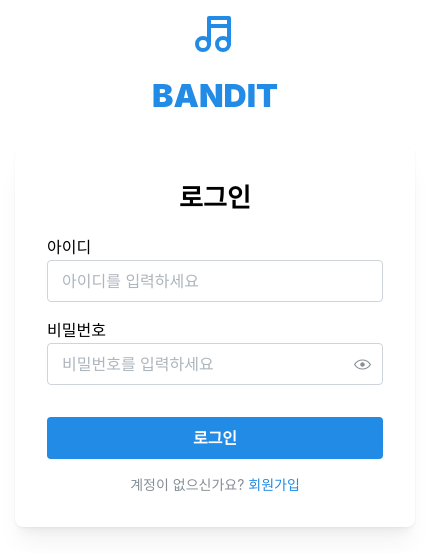
Test: LoginPage › 로딩 상태 › 로컬 로딩 상태일 때도 폼 필드들이 비활성화되어야 한다
In the field labelled "아이디": coordinates (215, 281) top-left (47, 260), bottom-right (383, 302), type "testuser"
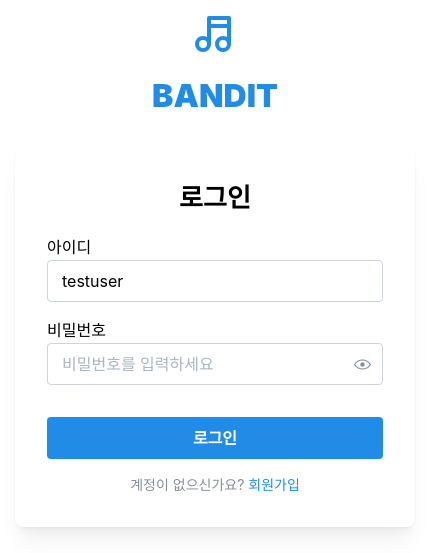
In the password field labelled "비밀번호": coordinates (215, 364) top-left (48, 344), bottom-right (382, 384), type "testpass"
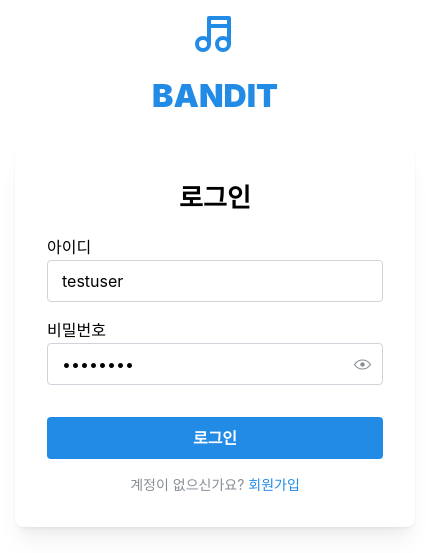
Click the button "로그인": coordinates (215, 438) top-left (47, 417), bottom-right (383, 459)
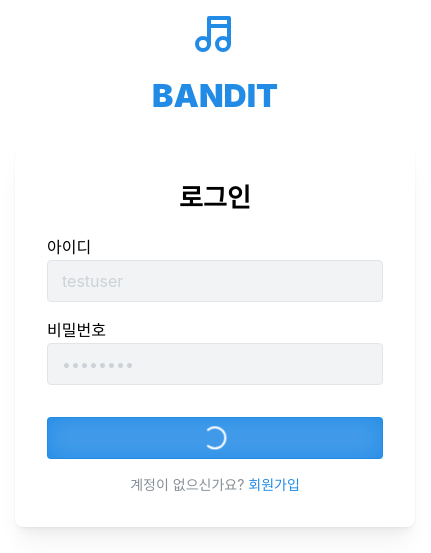
Expected: the field labelled "아이디" is disabled, top-left (47, 260), bottom-right (383, 302)
Expected: the password field labelled "비밀번호" is disabled, top-left (48, 344), bottom-right (382, 384)
Expected: the button named "로그인" is disabled, top-left (47, 417), bottom-right (383, 459)
